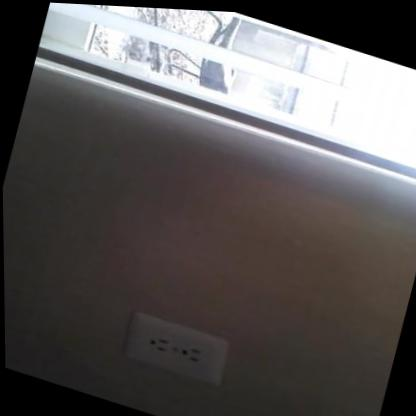OUTLET: (119, 307, 231, 387)
